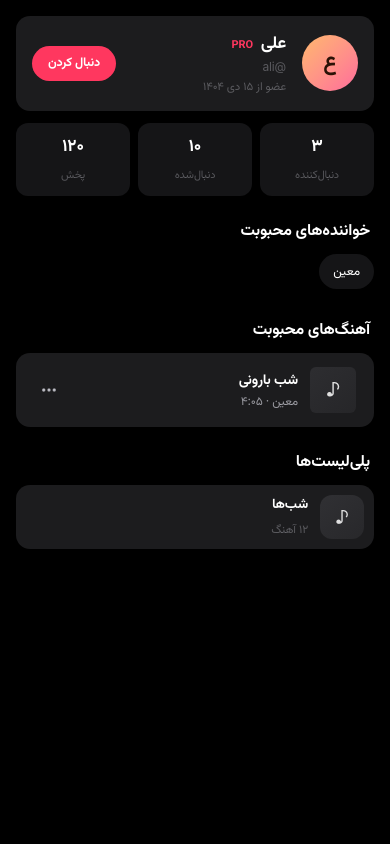
Test case: profile › opens the followers list
The width and height of the screenshot is (390, 844).
Click the text "دنبال‌کننده" at point(317, 174), box [295,167,339,181]
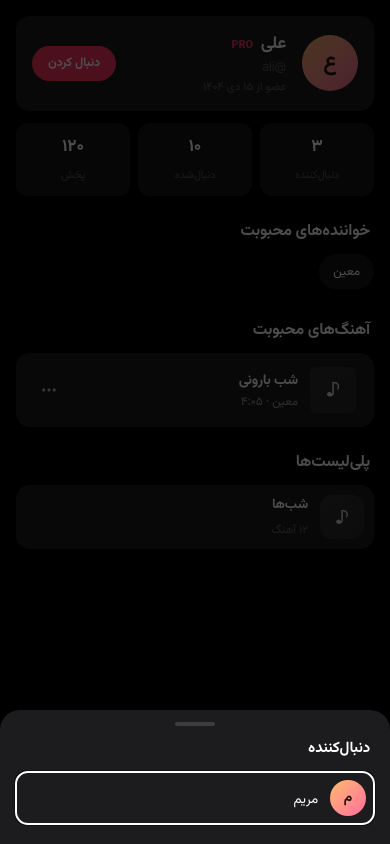
Now the text "مریم" is shown, box [294,790,318,806]
